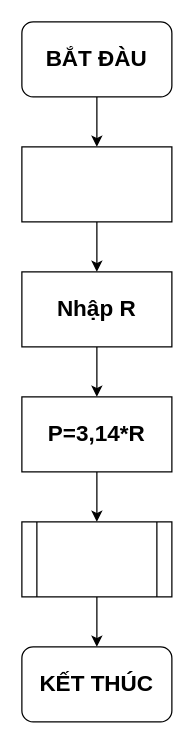
This 194x744 diagram has some shape labels left out. Here are the shapes that lost their labels. From the top down, the box of each, then its label:
(21, 146, 172, 222): Khai báo P,R
(21, 521, 172, 597): IN biến P
